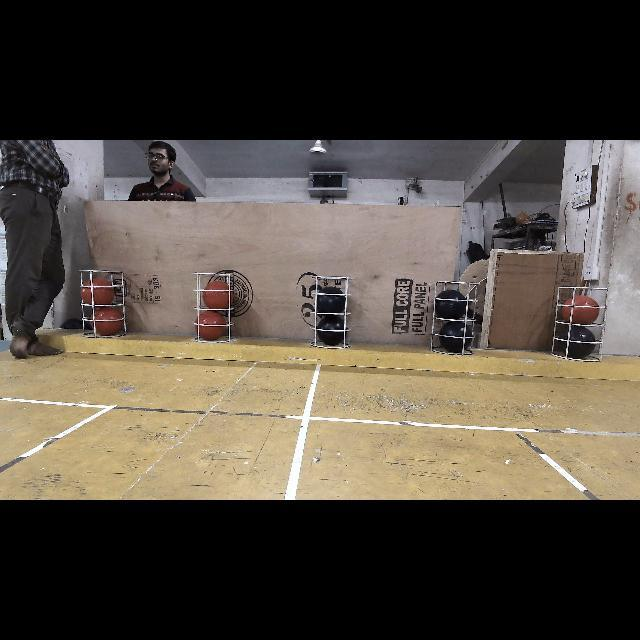P: (562, 324, 598, 356), (435, 290, 467, 320), (441, 322, 472, 350), (318, 316, 346, 344), (317, 288, 347, 314)
R: (562, 294, 598, 324), (196, 312, 227, 341), (82, 278, 114, 306), (92, 308, 124, 334), (203, 283, 233, 309)
S: (552, 284, 610, 364), (430, 279, 486, 357), (77, 267, 133, 341), (191, 269, 239, 345), (310, 274, 354, 352)
